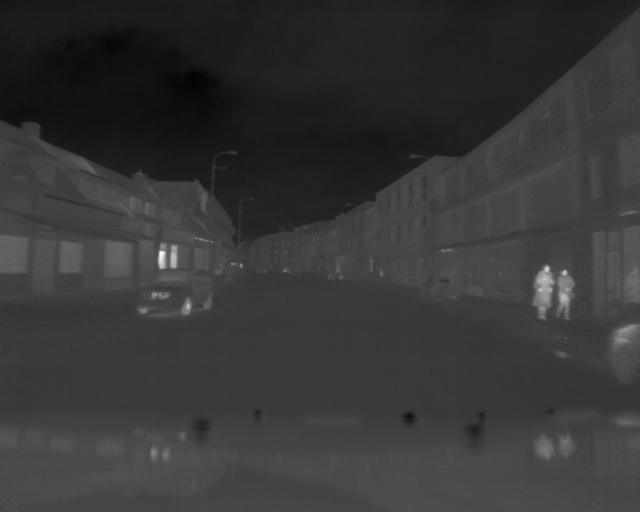car: (134, 267, 217, 317)
person: (533, 262, 555, 321), (556, 266, 574, 320)
